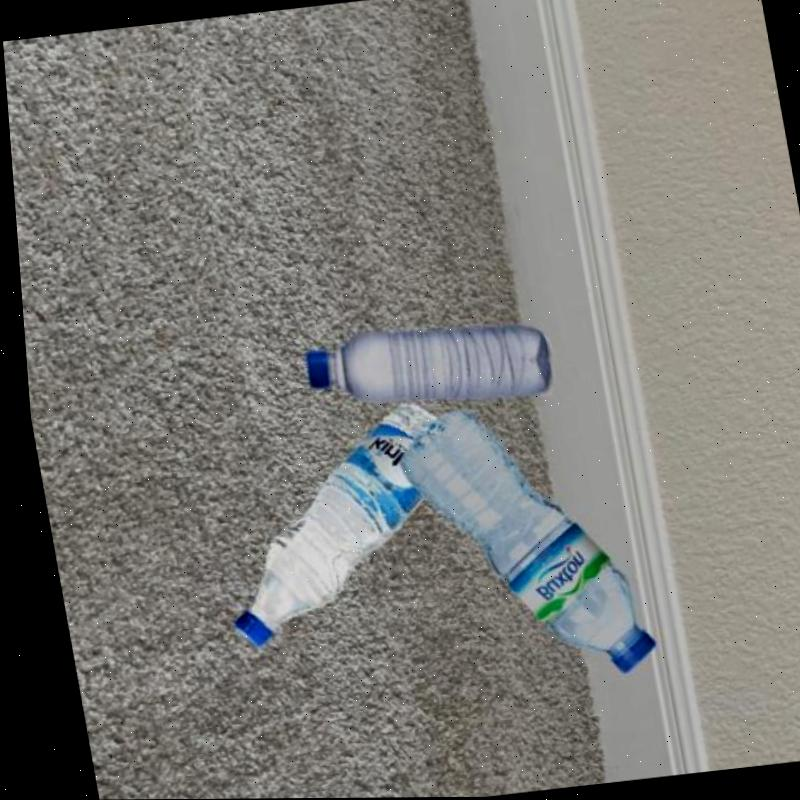botella: (383, 387, 655, 696), (188, 399, 479, 650), (293, 309, 552, 425)
